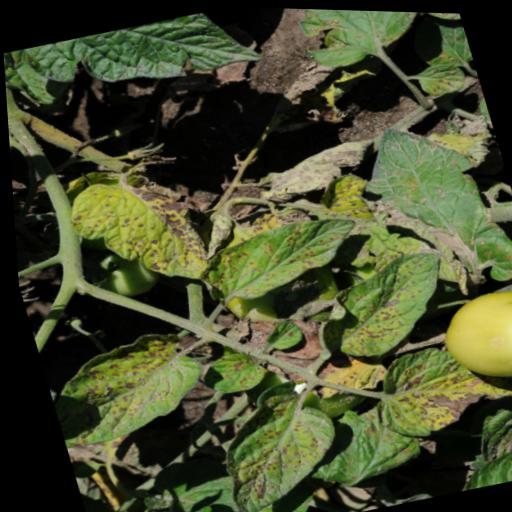Septoria: (344, 102, 512, 304), (14, 0, 271, 113), (33, 318, 214, 453), (53, 158, 214, 302), (291, 241, 462, 367), (184, 202, 370, 312), (350, 323, 512, 447), (199, 388, 349, 512), (283, 391, 423, 492), (287, 7, 436, 74), (192, 343, 265, 399), (409, 52, 471, 97)
